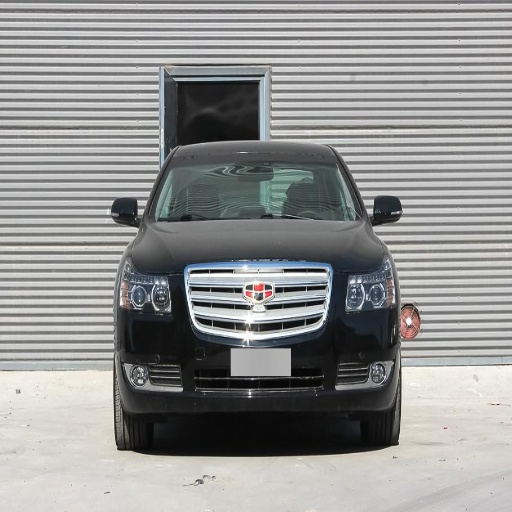front_bumper: (117, 268, 398, 415)
front_right_light: (119, 260, 173, 317)
hood: (133, 220, 385, 306)
